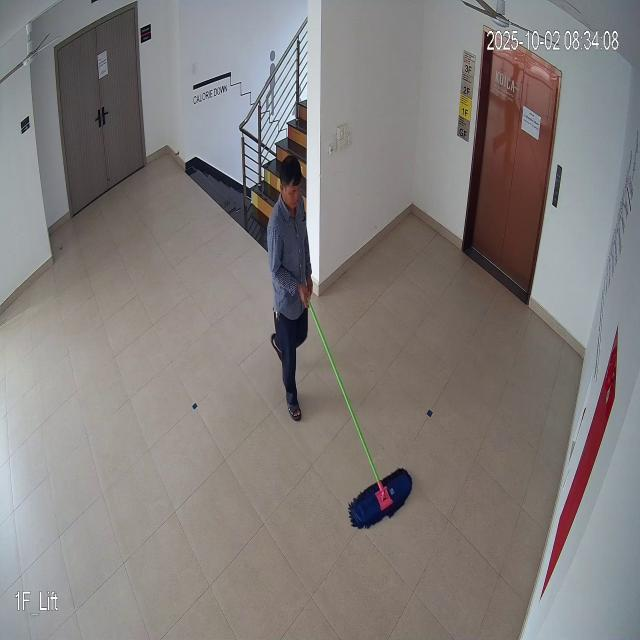face: (279, 153, 306, 216)
